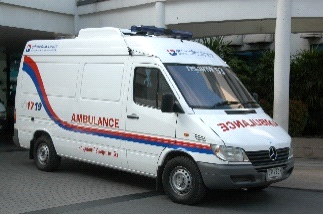van: (12, 27, 296, 202)
